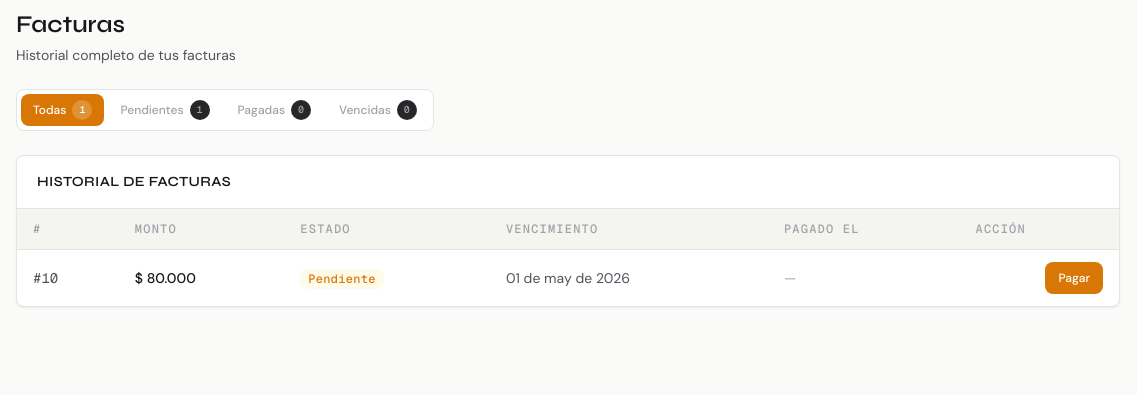
Test: InvoicesPage › shows pay error when payment fails
Click the button "Pagar" at (1074, 278), box top-left (1045, 262), bottom-right (1103, 294)
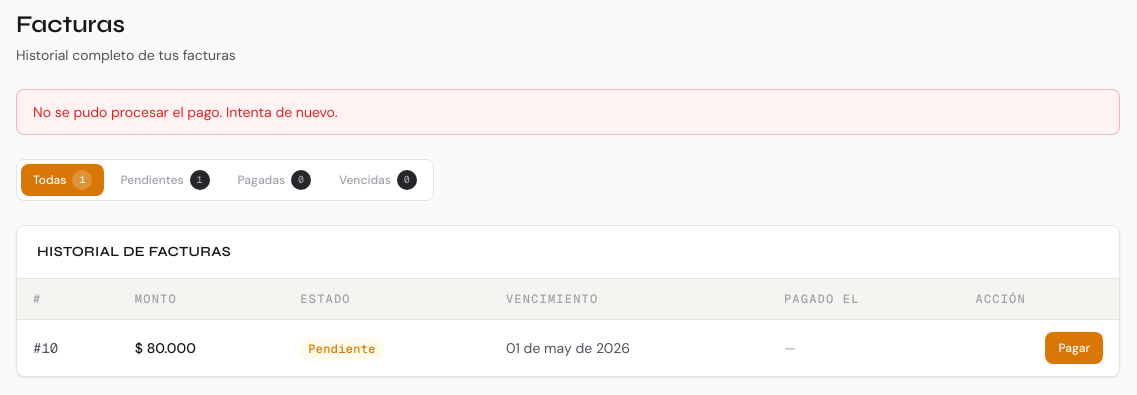
Expected: the message shows "No se pudo procesar el pago", top-left (33, 103), bottom-right (338, 121)
